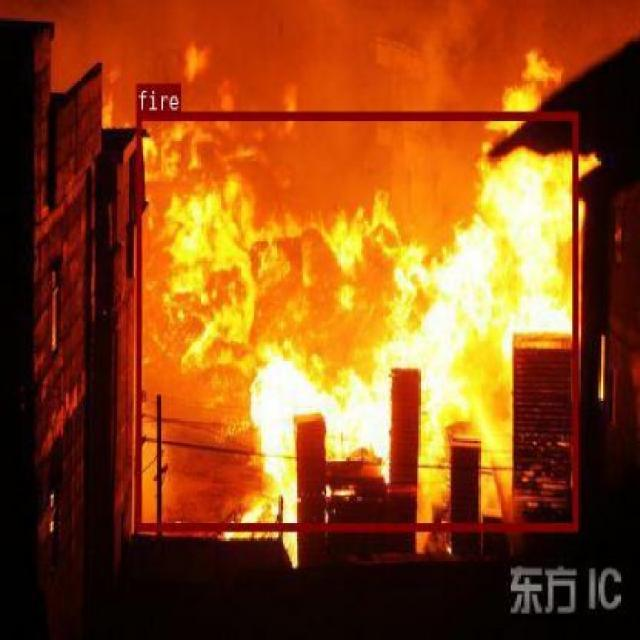fire: (135, 110, 577, 528)
